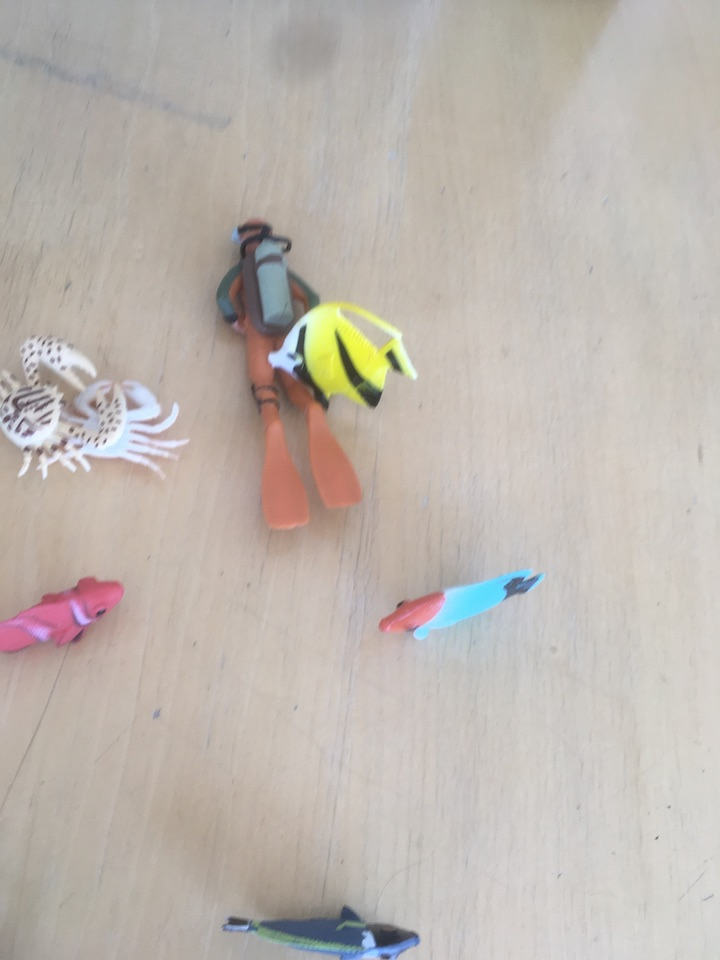crab: (1, 336, 128, 483), (36, 376, 198, 484)
danger: (266, 298, 423, 414)
diver: (216, 215, 369, 538)
fish: (376, 563, 554, 645), (1, 569, 127, 657), (221, 905, 426, 956)
